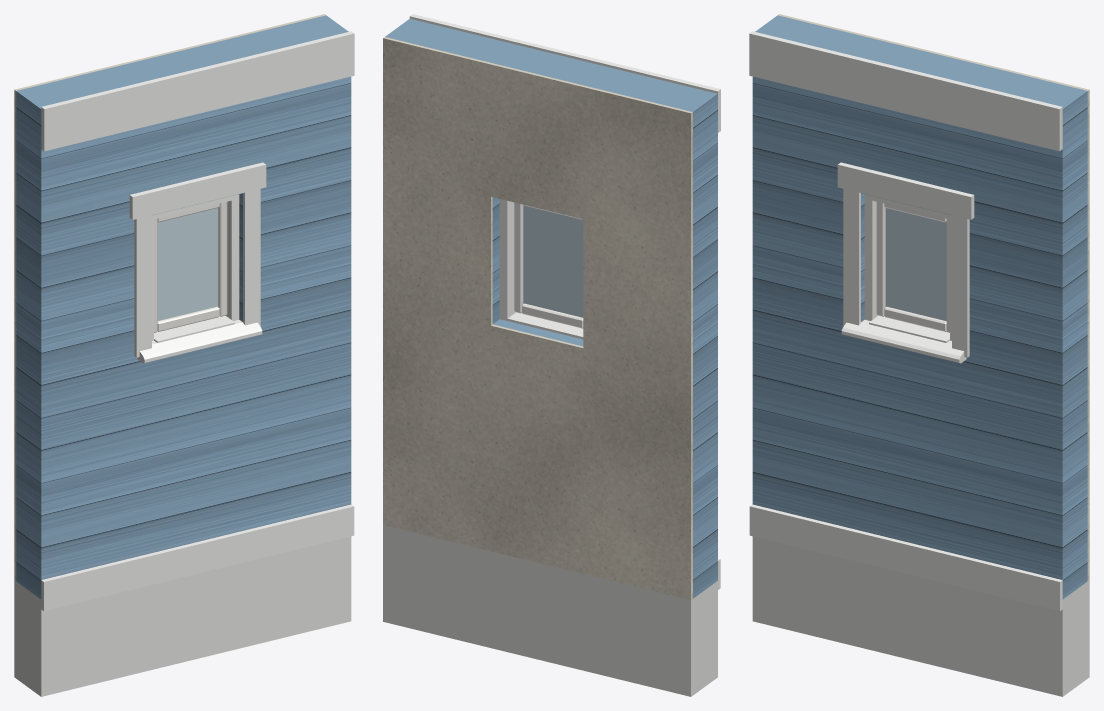
File: wall_e_small.glb
3 views of the same model, side by side, from view 1: azimuth 30°, elevation 25°; view 2: azimuth 150°, elevation 25°; view 3: azimuth 330°, elevation 25° (orthographic).
Visible parts, largest first — view 1: wall_e_small_siding_e, wall_e_small_trim, wall_e_small_lattice, wall_e_small_glass, wall_e_small_sash, wall_e_small_frame, wall_e_small_plaster; view 2: wall_e_small_plaster, wall_e_small_lattice, wall_e_small_siding_e, wall_e_small_glass, wall_e_small_trim, wall_e_small_frame, wall_e_small_sash; view 3: wall_e_small_siding_e, wall_e_small_trim, wall_e_small_lattice, wall_e_small_glass, wall_e_small_sash, wall_e_small_frame, wall_e_small_plaster.
Boxes of the visible parts, x1,y1,x2,y2 form: wall_e_small_siding_e: [16, 15, 351, 599]; wall_e_small_trim: [41, 31, 354, 611]; wall_e_small_lattice: [14, 536, 351, 696]; wall_e_small_glass: [157, 208, 218, 321]; wall_e_small_sash: [154, 202, 227, 332]; wall_e_small_frame: [152, 194, 239, 340]; wall_e_small_plaster: [14, 14, 325, 580]; wall_e_small_plaster: [383, 37, 692, 599]; wall_e_small_lattice: [383, 525, 717, 696]; wall_e_small_siding_e: [385, 19, 717, 598]; wall_e_small_glass: [523, 205, 583, 317]; wall_e_small_trim: [409, 14, 720, 589]; wall_e_small_frame: [499, 199, 515, 320]; wall_e_small_sash: [514, 202, 583, 328]; wall_e_small_siding_e: [752, 15, 1087, 599]; wall_e_small_trim: [749, 31, 1062, 611]; wall_e_small_lattice: [752, 536, 1089, 696]; wall_e_small_glass: [885, 208, 946, 321]; wall_e_small_sash: [876, 202, 949, 332]; wall_e_small_frame: [864, 194, 951, 340]; wall_e_small_plaster: [778, 14, 1089, 580].
Size of the model in its own units: 2 by 3.63 by 0.38.
7 materials, 2 textured.
